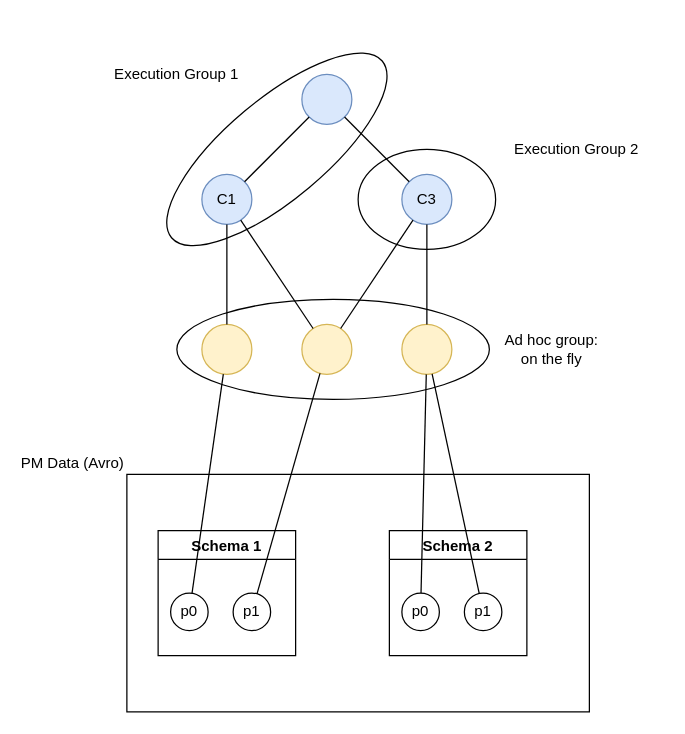
Image size: 685x734. Some labels were removed from this diagram. The centre of each missing label's shape, as x and y in pixels:
"C2" belongs at (326,98).
"S1" belongs at (226,348).
"S2" belongs at (326,348).
"S3" belongs at (426,348).
